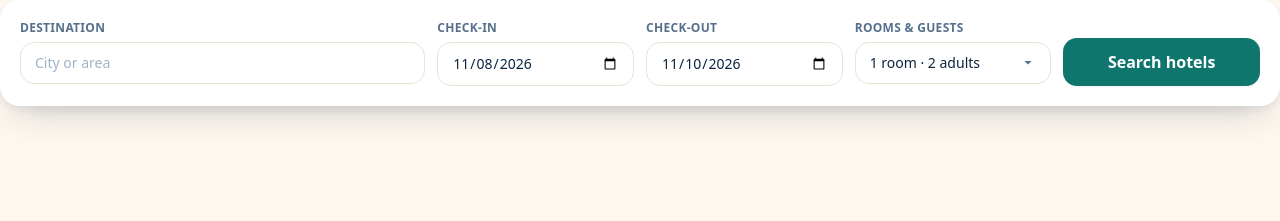
DestinationAutocomplete › is navigable by keyboard
Click the dropdown with test id "destination-input" at (223, 63), box 20,42 -> 425,84
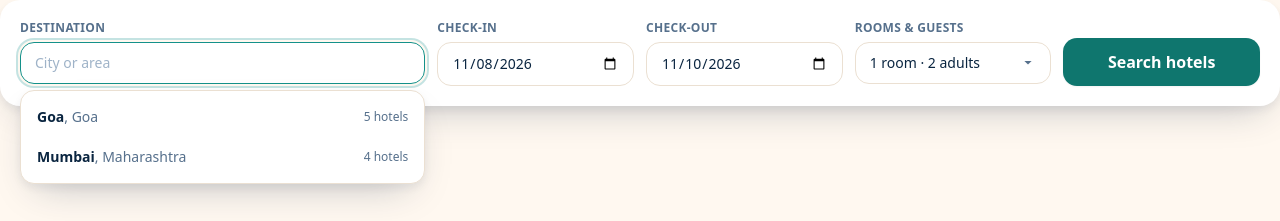
Press Arrowdown Enter
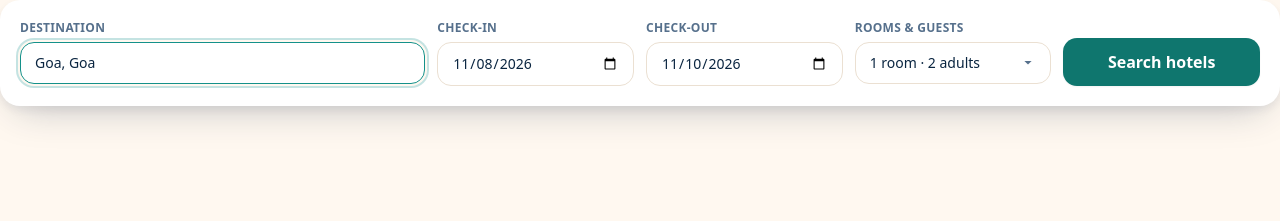
Result: the dropdown with test id "destination-input" holds "Goa, Goa" at 20,42 -> 425,84
